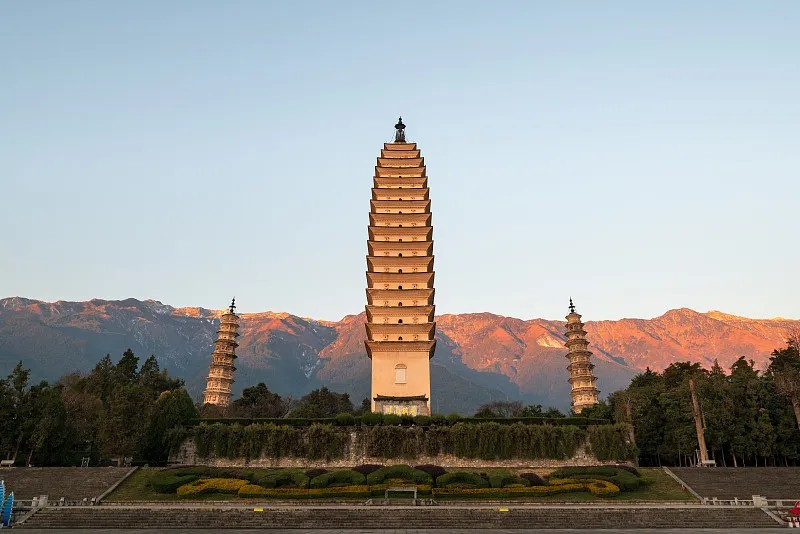ThreePagoda: (365, 117, 436, 416)
